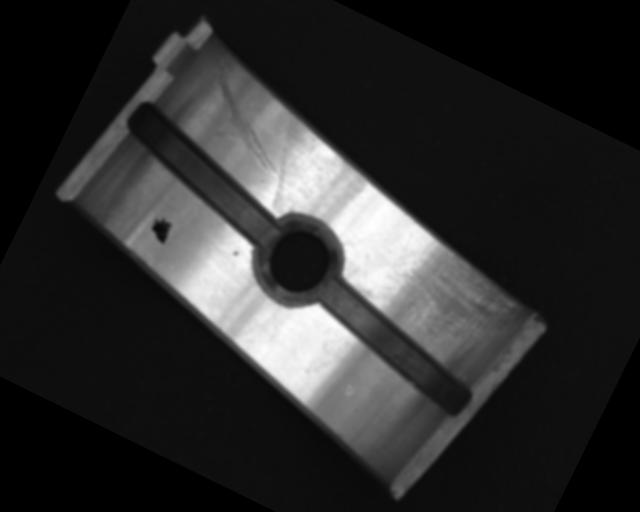blot: (145, 213, 175, 245)
bruise: (342, 381, 357, 398), (231, 250, 238, 257)
gap: (102, 99, 306, 254), (296, 274, 494, 421)
hole: (242, 202, 355, 318)
nick: (178, 53, 322, 185)
scratch: (346, 218, 535, 373)
